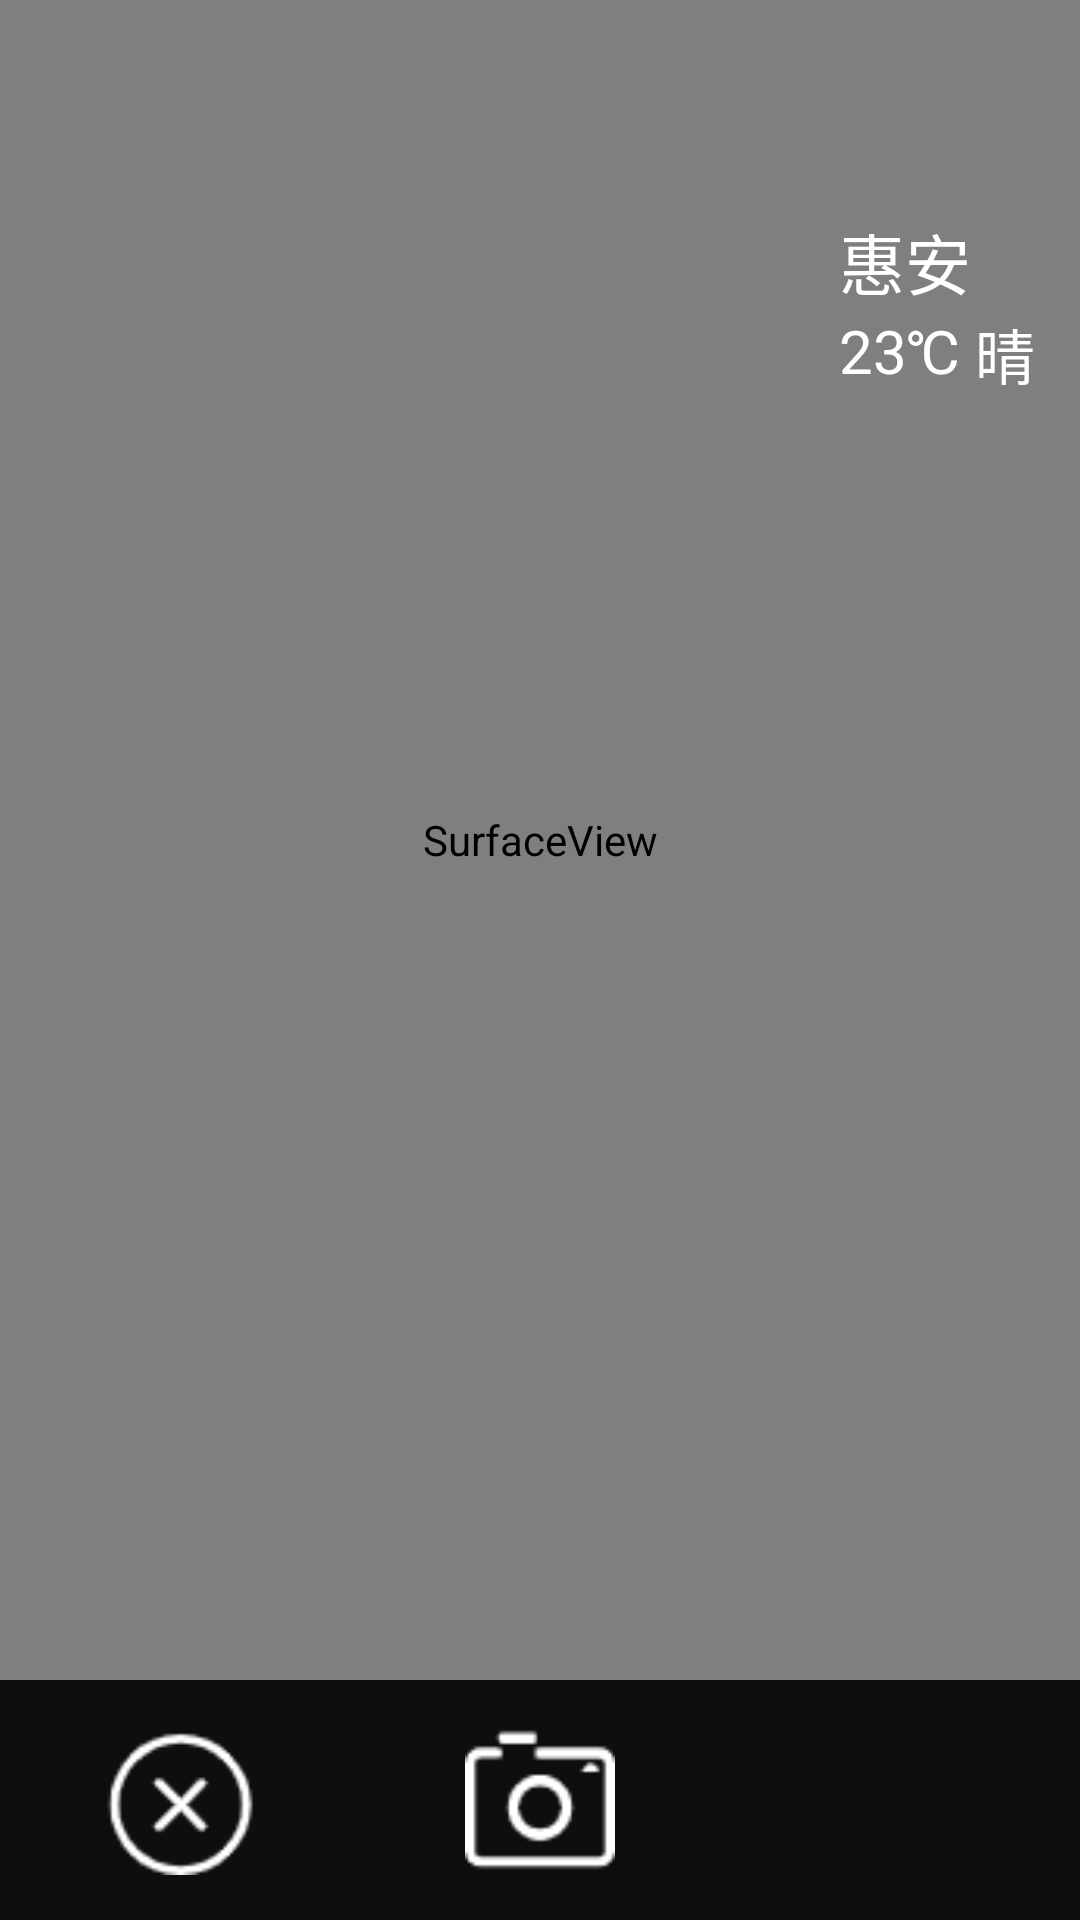

Locate icon controls on the screen. Image size 1080 x 1920, boxes as bbox=[x1, y1, x2, y2].
camera: bbox=[465, 1730, 615, 1869]
cancle: bbox=[108, 1733, 253, 1875]
